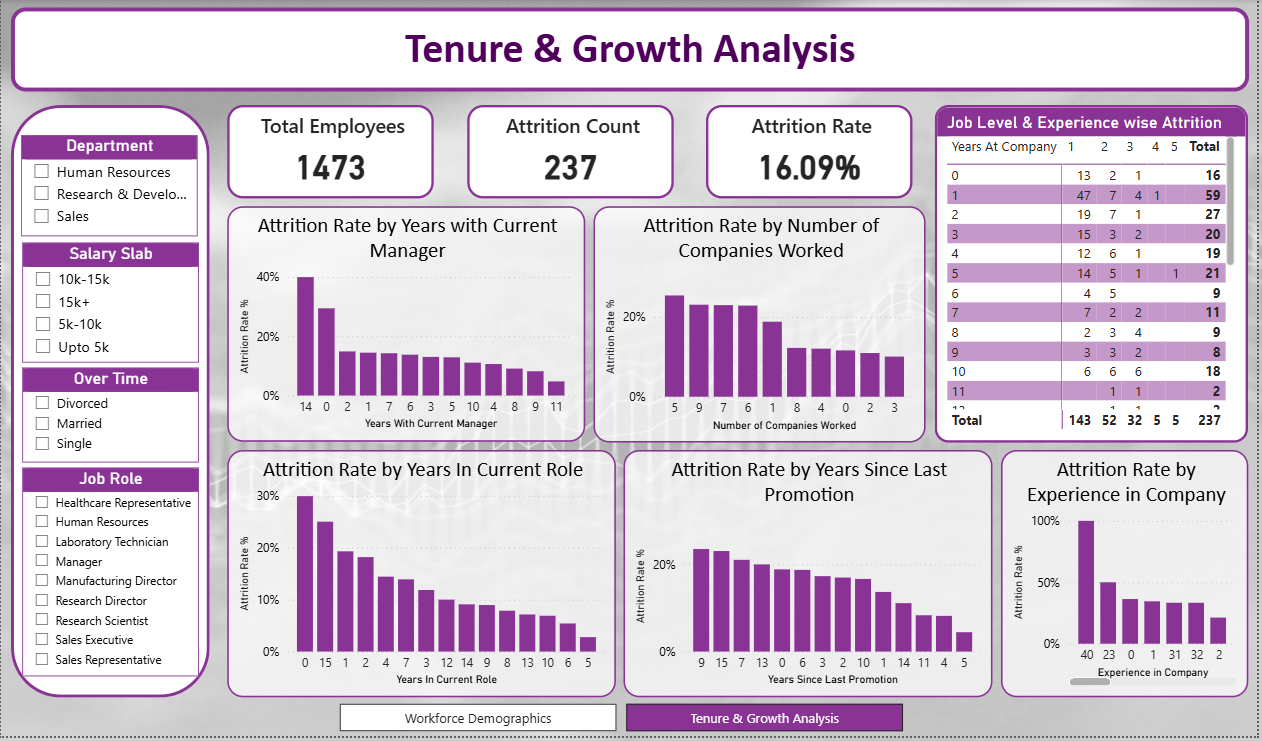

Layout of this report page (visuals, bound fields, positions):
{"tool":"powerbi","page":{"name":"Tenure & Growth Analysis","canvas":[1280,750],"ordinal":1},"visuals":[{"type":"textbox","box":[9.8,7.3,1262,85.6],"z":0},{"type":"card","title":"Attrition Count","fields":{"Values":["HR_Analytics_Cleaned.Attrition Count"]},"box":[475.7,107.6,210.3,95.4],"z":1000},{"type":"card","title":"Total Employees","fields":{"Values":["HR_Analytics_Cleaned.Total Employees"]},"box":[231.1,107.6,210.3,95.4],"z":2000},{"type":"card","title":"Attrition Rate","fields":{"Values":["HR_Analytics_Cleaned.Attrition Rate %"]},"box":[719,107.6,210.3,95.4],"z":3000},{"type":"shape","box":[10.2,107,202.5,603.8],"z":4000},{"type":"clusteredColumnChart","title":"Attrition Rate by Years with Current Manager","fields":{"Y":["HR_Analytics_Cleaned.Attrition Rate %"],"Category":["HR_Analytics_Cleaned.YearsWithCurrManager"]},"box":[231.1,210.3,364.4,239.7],"z":9000},{"type":"columnChart","title":"Attrition Rate by Number of Companies Worked","fields":{"Y":["HR_Analytics_Cleaned.Attrition Rate %"],"Category":["HR_Analytics_Cleaned.NumCompaniesWorked"]},"box":[604.1,210.3,338.7,240.9],"z":10000},{"type":"pivotTable","title":"Job Level & Experience wise Attrition","fields":{"Columns":["HR_Analytics_Cleaned.JobLevel"],"Rows":["HR_Analytics_Cleaned.YearsAtCompany"],"Values":["HR_Analytics_Cleaned.Attrition Count"]},"box":[951.4,107.6,319.2,343.6],"z":11000},{"type":"columnChart","title":"Attrition Rate by Years Since Last Promotion","fields":{"Y":["HR_Analytics_Cleaned.Attrition Rate %"],"Category":["HR_Analytics_Cleaned.YearsSinceLastPromotion"]},"box":[634.3,458.6,375.8,252.2],"z":12000},{"type":"columnChart","title":"Attrition Rate by Years In Current Role","fields":{"Y":["HR_Analytics_Cleaned.Attrition Rate %"],"Category":["HR_Analytics_Cleaned.YearsInCurrentRole"]},"box":[230.6,458.6,396.1,252.2],"z":13000},{"type":"columnChart","title":"Attrition Rate by Experience in Company","fields":{"Category":["HR_Analytics_Cleaned.YearsAtCompany"],"Y":["HR_Analytics_Cleaned.Attrition Rate %"]},"box":[1019,458.6,252.2,252.2],"z":14000},{"type":"pageNavigator","box":[345.2,717.1,575.8,28],"z":15000},{"type":"slicer","title":"Department","fields":{"Values":["HR_Analytics_Cleaned.Department"]},"box":[20.4,137.6,179.6,103.2],"z":15001},{"type":"slicer","title":"Salary Slab","fields":{"Values":["HR_Analytics_Cleaned.SalarySlab"]},"box":[21.7,247.1,179.6,122.3],"z":15002},{"type":"slicer","title":"Over Time","fields":{"Values":["HR_Analytics_Cleaned.MaritalStatus"]},"box":[21.7,374.5,179.6,96.8],"z":15003},{"type":"slicer","title":"Job Role","fields":{"Values":["HR_Analytics_Cleaned.JobRole"]},"box":[21.7,476.4,179.6,212.7],"z":15004}]}

Visuals, with their boxes in screenshot pixels (x1, y1, x2, y2), scaled from the page's 1280x750 canvas onto the 1262x741 screenshot:
textbox: <region>10, 7, 1254, 92</region>
"Attrition Count" card: <region>469, 106, 676, 201</region>
"Total Employees" card: <region>228, 106, 435, 201</region>
"Attrition Rate" card: <region>709, 106, 916, 201</region>
shape: <region>10, 106, 210, 702</region>
"Attrition Rate by Years with Current Manager" clusteredColumnChart: <region>228, 208, 587, 445</region>
"Attrition Rate by Number of Companies Worked" columnChart: <region>596, 208, 930, 446</region>
"Job Level & Experience wise Attrition" pivotTable: <region>938, 106, 1253, 446</region>
"Attrition Rate by Years Since Last Promotion" columnChart: <region>625, 453, 996, 702</region>
"Attrition Rate by Years In Current Role" columnChart: <region>227, 453, 618, 702</region>
"Attrition Rate by Experience in Company" columnChart: <region>1005, 453, 1253, 702</region>
pageNavigator: <region>340, 708, 908, 736</region>
"Department" slicer: <region>20, 136, 197, 238</region>
"Salary Slab" slicer: <region>21, 244, 198, 365</region>
"Over Time" slicer: <region>21, 370, 198, 466</region>
"Job Role" slicer: <region>21, 471, 198, 681</region>
